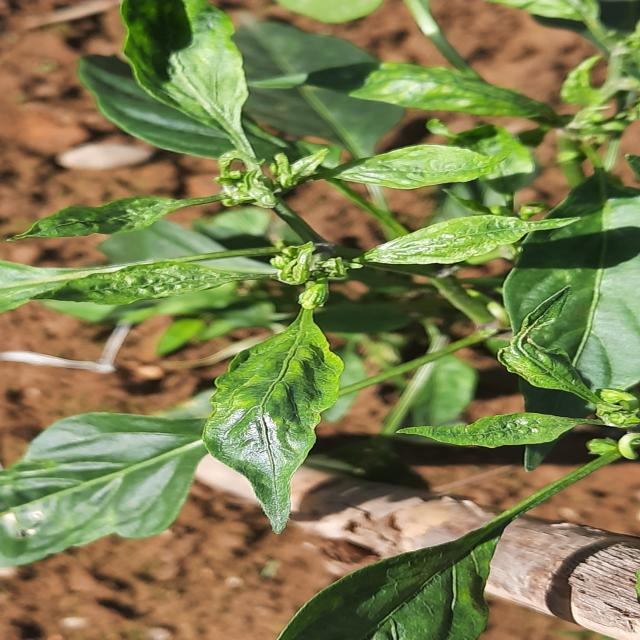thrips: (214, 284, 376, 526), (25, 250, 278, 312), (375, 214, 589, 269)
